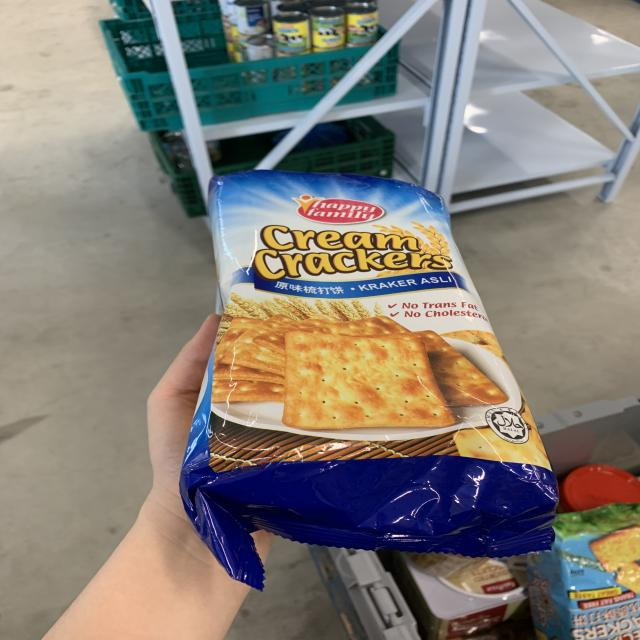object_name: (198, 175, 547, 553)
